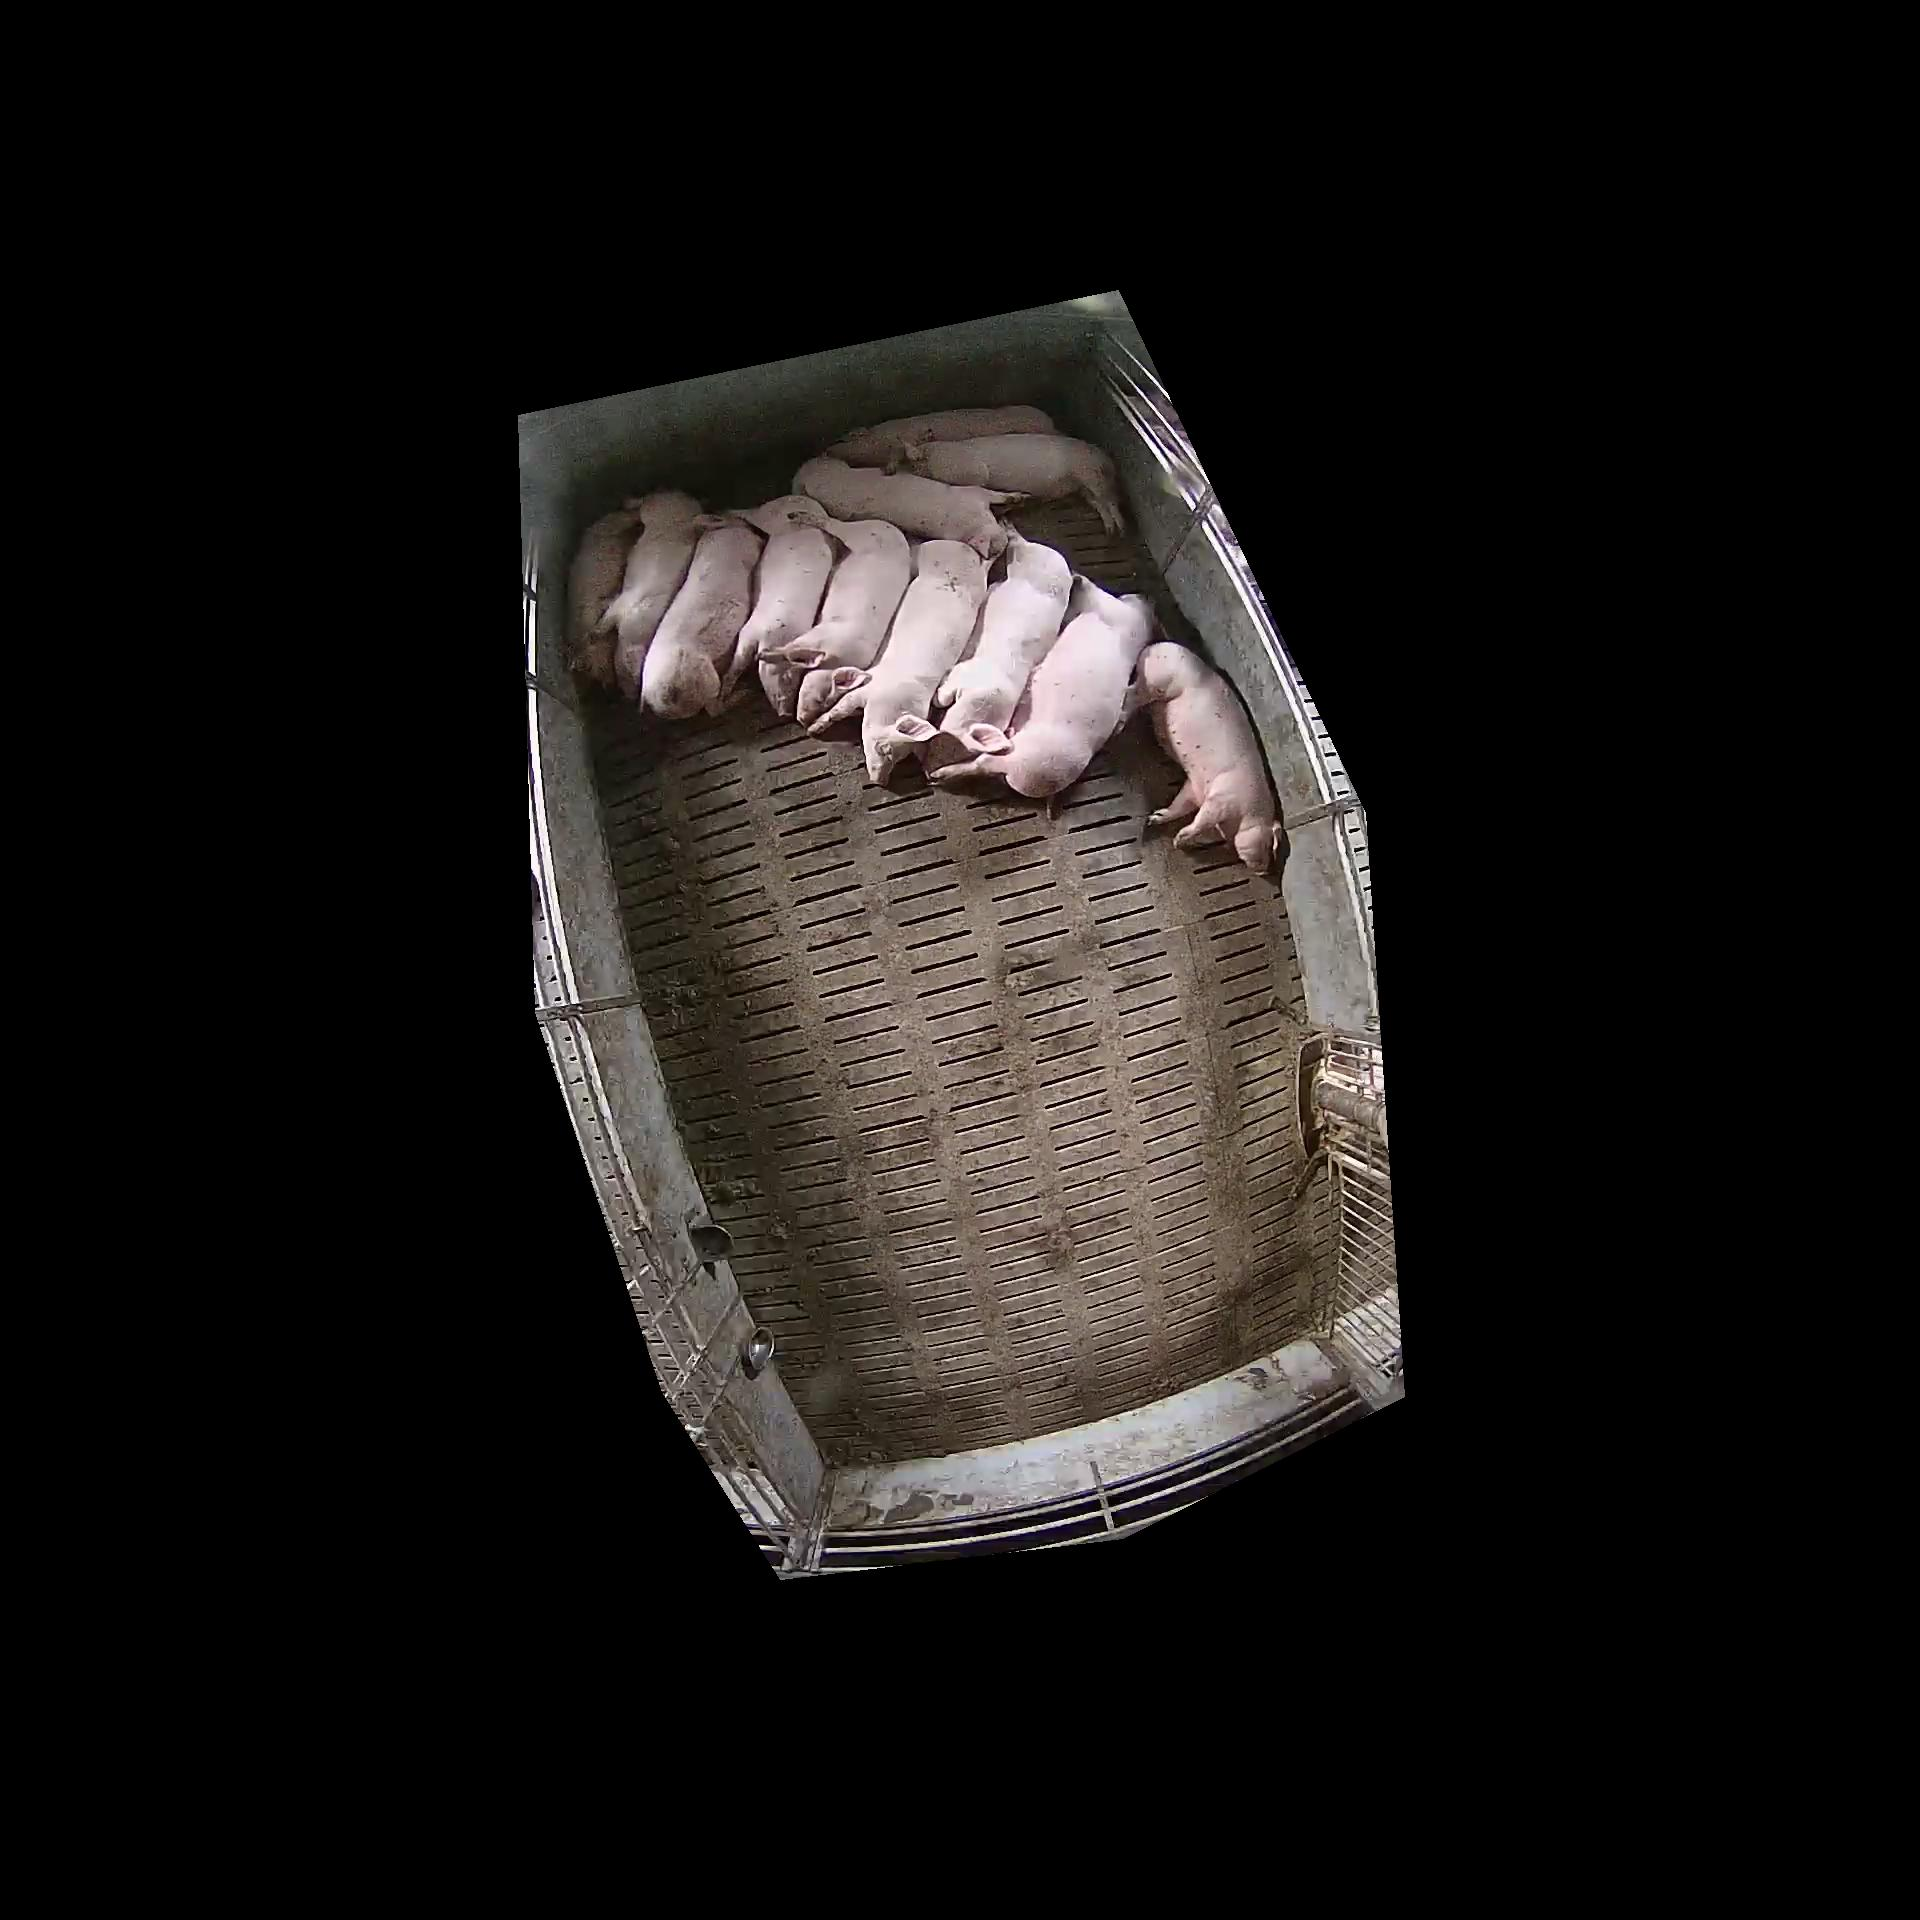pig: (937, 577, 1152, 798), (807, 540, 985, 782), (923, 517, 1071, 774), (1124, 642, 1280, 872), (779, 519, 909, 717), (642, 508, 760, 716), (726, 496, 833, 716), (909, 431, 1129, 536), (594, 492, 707, 698), (793, 455, 1016, 554), (568, 503, 638, 684), (840, 404, 1055, 461)
